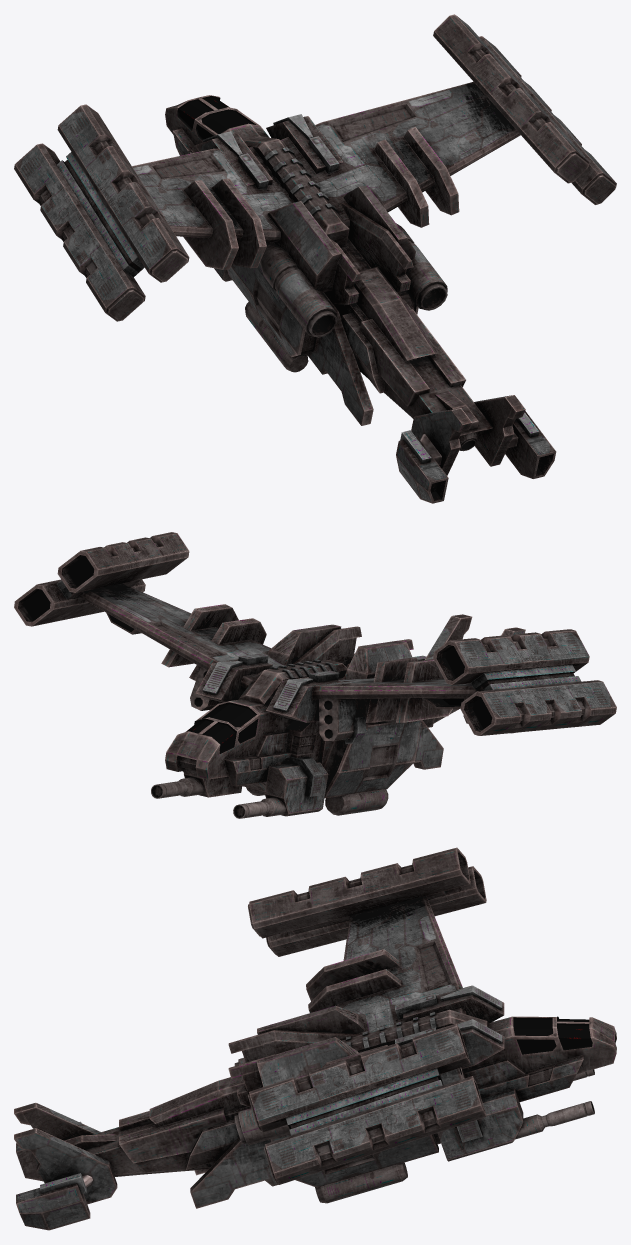
Rendered from spaceship_gray_01.fbx.
The picture shows the model from 3 angles, top to bottom: view 1: azimuth 30°, elevation 25°; view 2: azimuth 150°, elevation 25°; view 3: azimuth 270°, elevation 25°; orthographic projection. The views are drawn at different scales.
Parts seen in each view (by area): view 1: Spaceship01_grp; view 2: Spaceship01_grp; view 3: Spaceship01_grp.
Boxes of the visible parts, x1=… form: Spaceship01_grp: x1=14, y1=14, x2=616, y2=503; Spaceship01_grp: x1=14, y1=532, x2=616, y2=818; Spaceship01_grp: x1=14, y1=847, x2=616, y2=1230.
Bounding box in the file's own units: 261 × 134 × 273.
